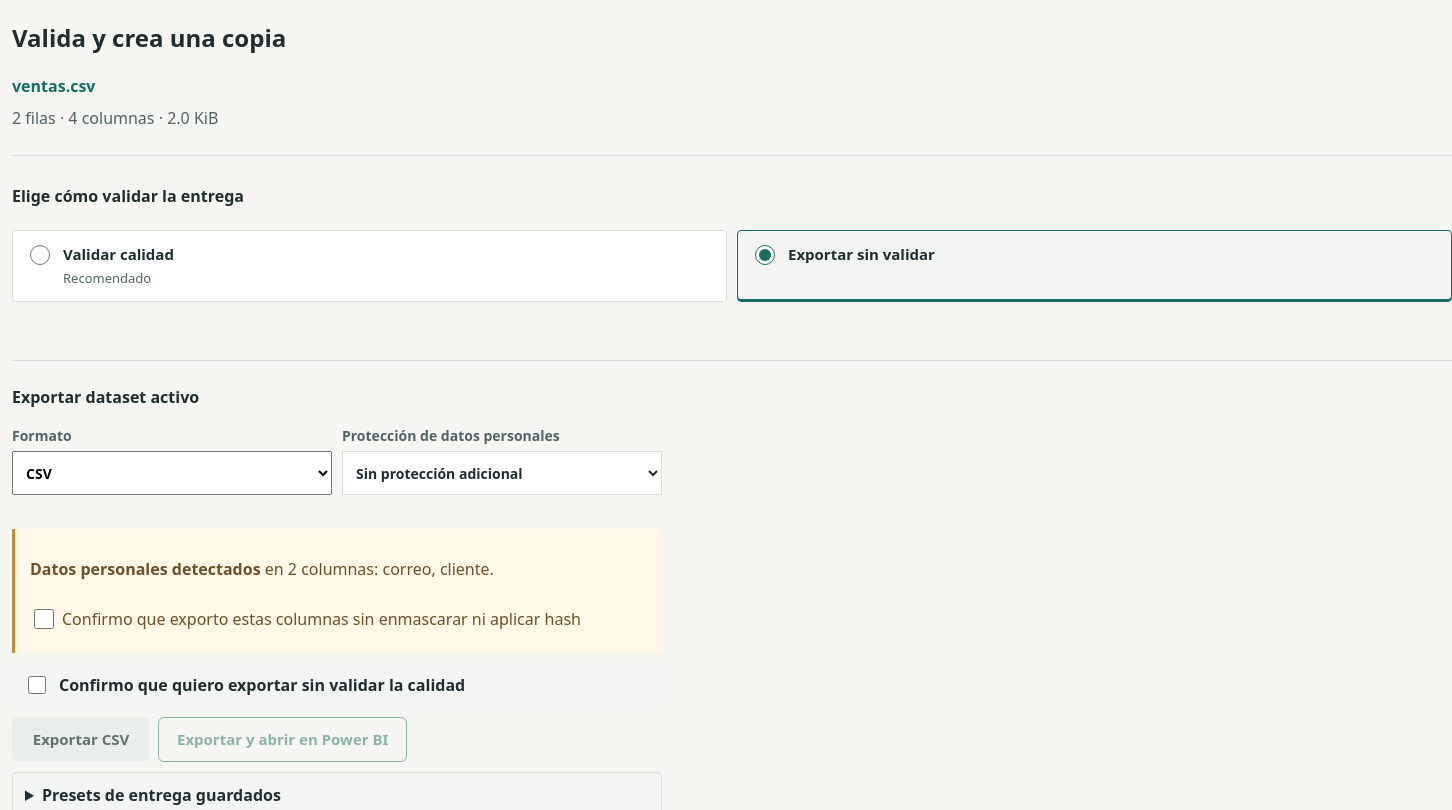
Test: señales de datos personales en Entregar › lista las columnas detectadas y exige confirmar una exportación sin protección
The width and height of the screenshot is (1452, 810).
Check: the text "Datos personales detectados" is shown, box [30,558,261,580]
Check: the text "Datos personales detectados en 2 columnas: correo, cliente." is shown, box [30,558,494,580]
Click the checkbox labelled "Confirmo que quiero exportar sin validar la calidad" at (37, 685), box [28,676,46,694]
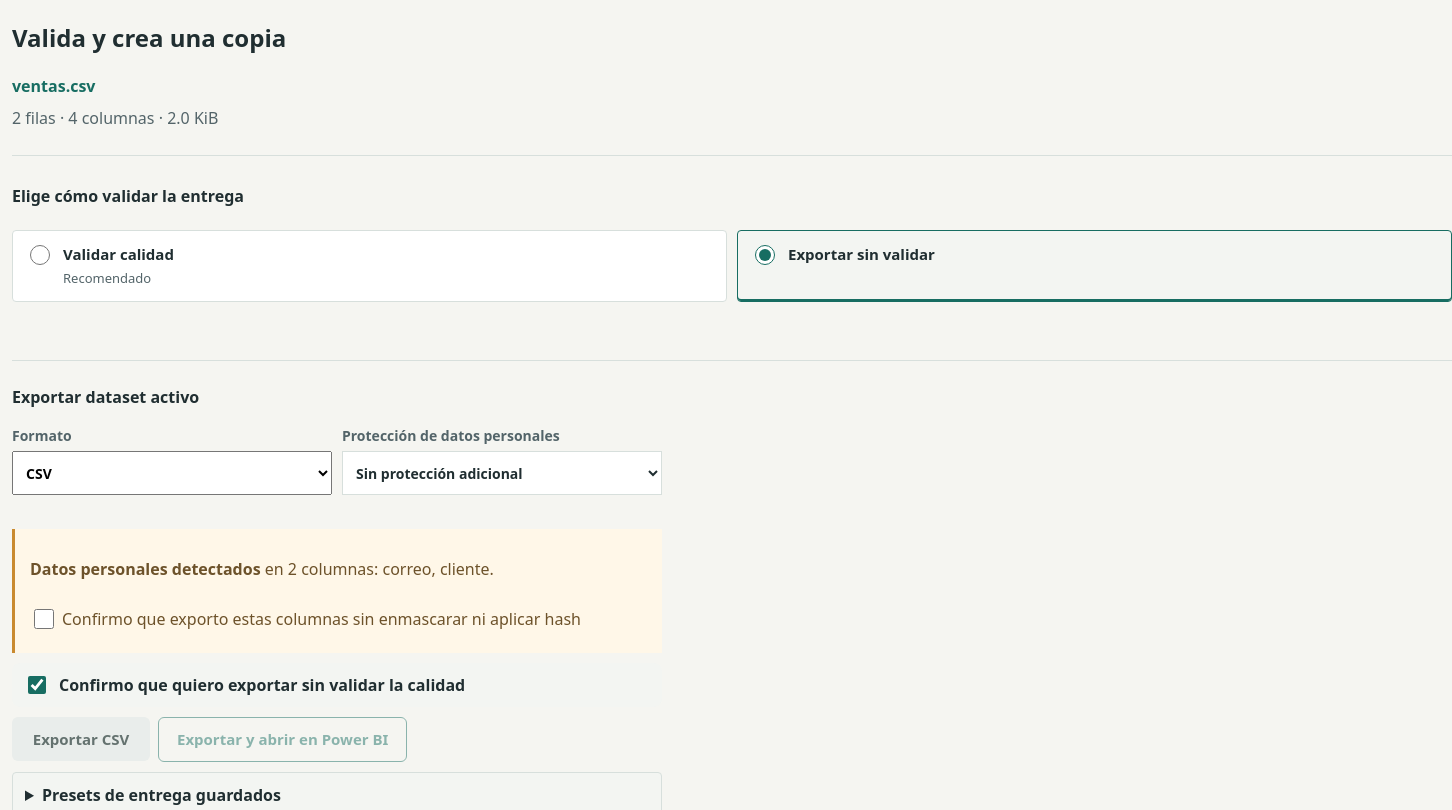
Check: the button "Exportar CSV" is disabled, box [12,718,150,762]
Click the checkbox labelled "Confirmo que exporto estas columnas sin enmascarar ni aplicar hash" at (44, 619), box [34,609,54,629]
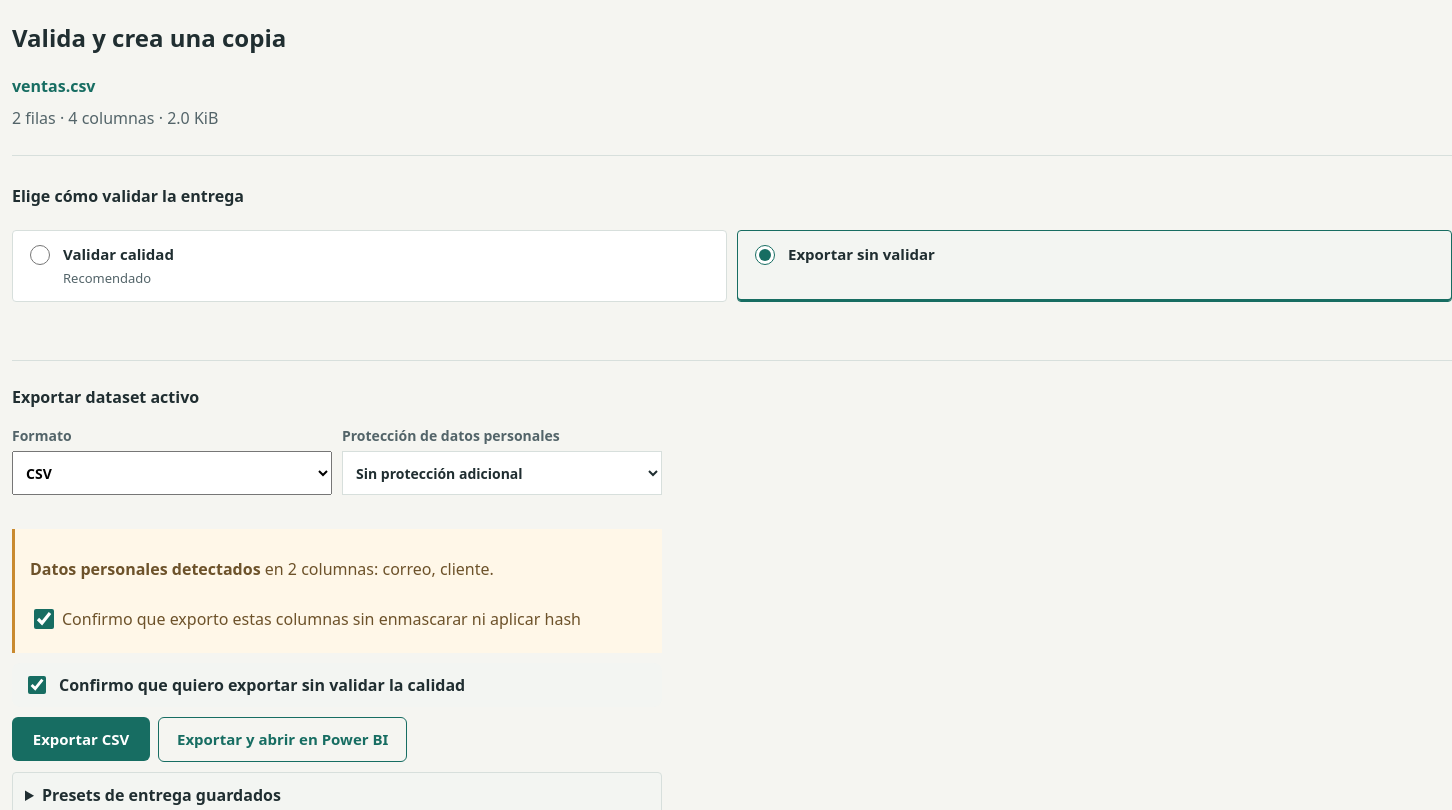
Check: the button "Exportar CSV" is enabled, box [12,718,150,762]
